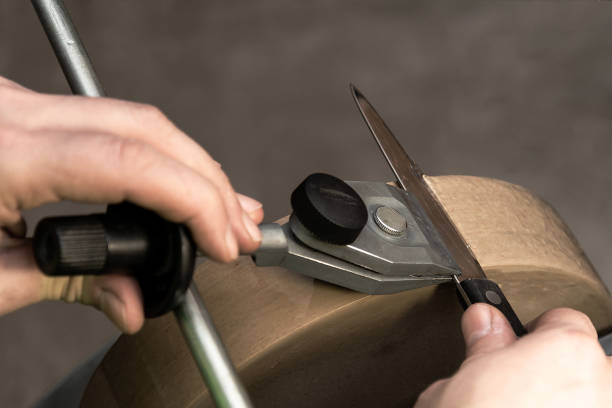knife: (352, 81, 527, 340)
